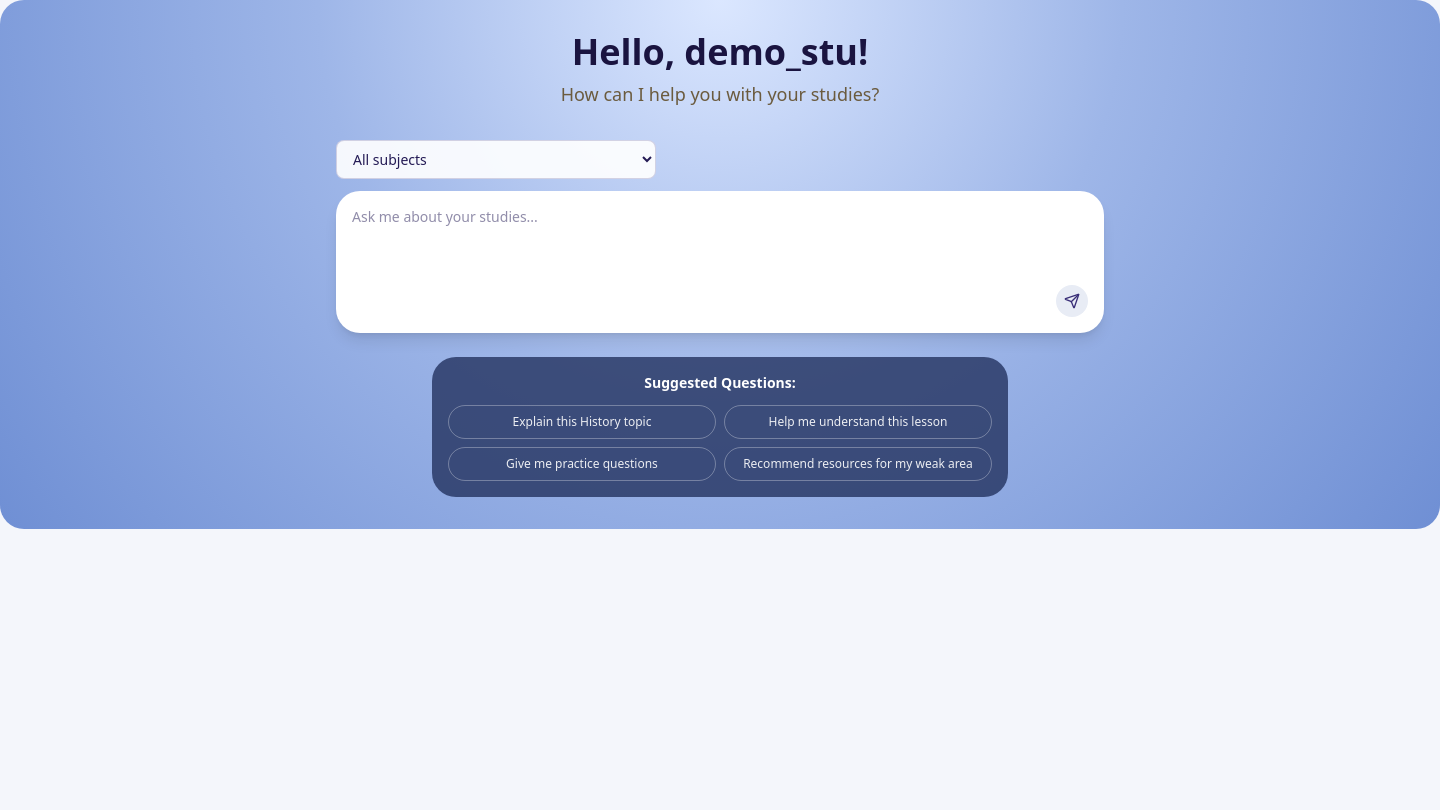
Test: ChatPage failure and retry › does not keep a failed turn and does not duplicate a successful retry
This screenshot has width=1440, height=810.
Type "Where was the early capital?" into the text box named "Your question" at point(720, 243), box [352,207,1088,279]
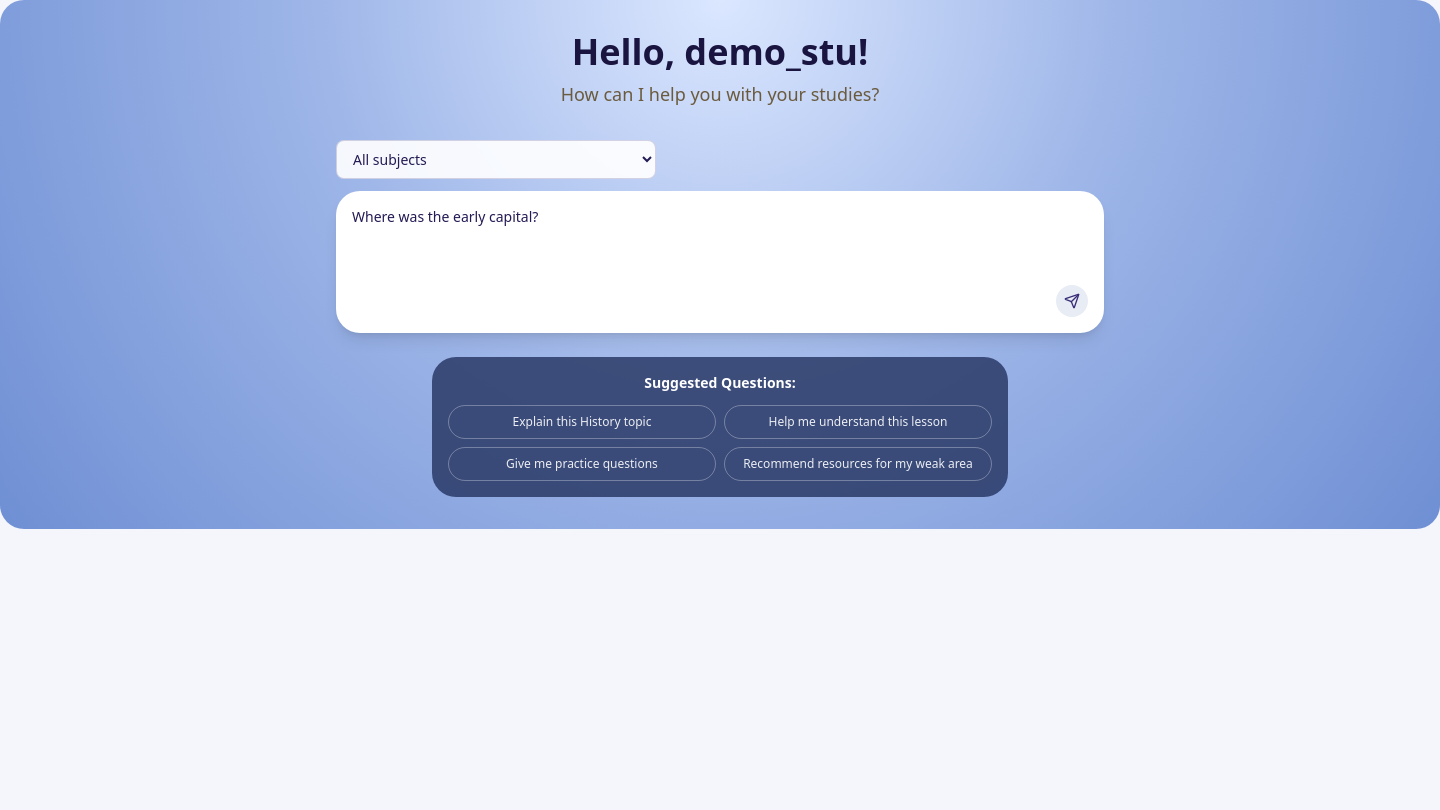
Click the button named "Ask" at point(1072, 301), box [1056,285,1088,317]
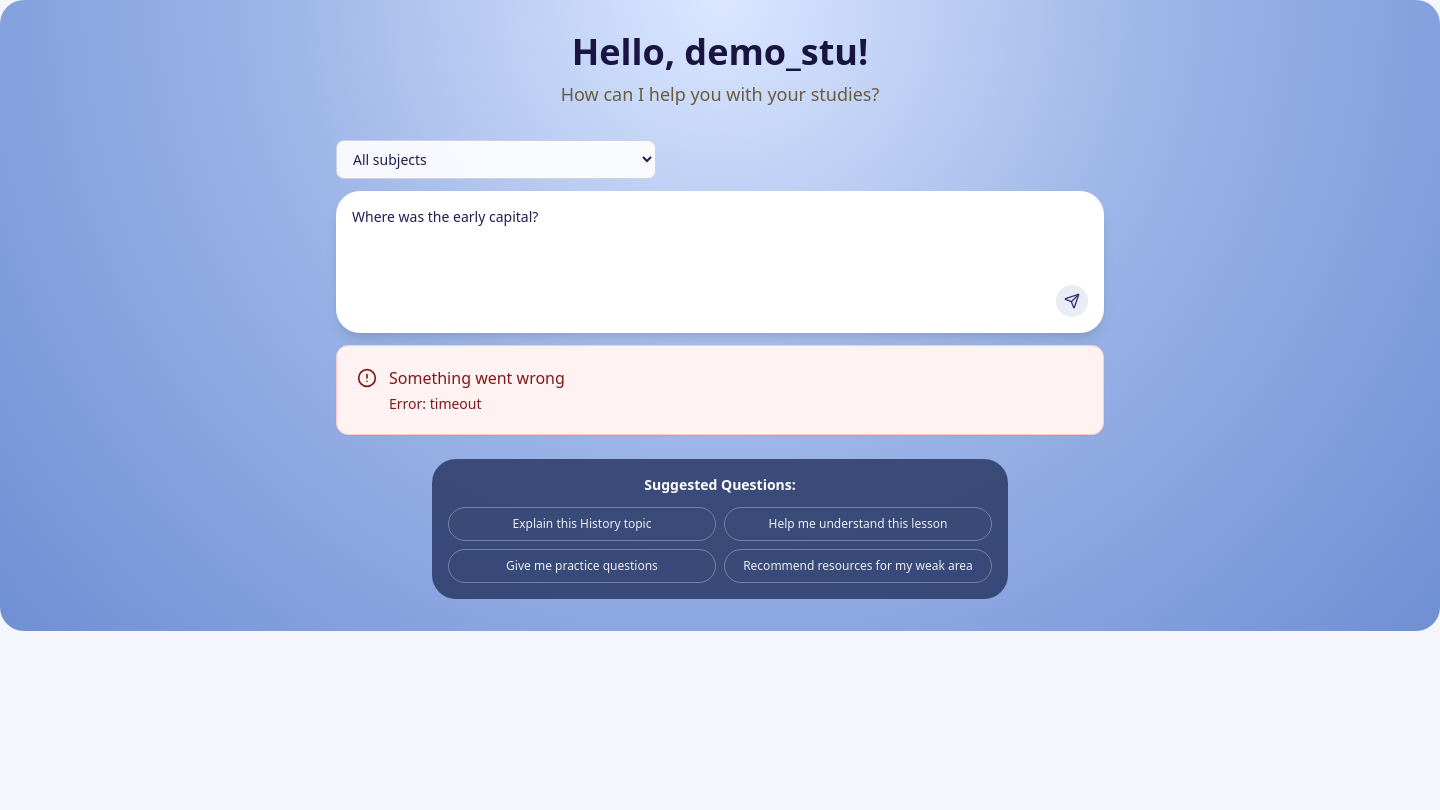
Expected: the text "assistant" is not shown
Expected: the text "Error: timeout" is shown, [389,394,482,413]
Click the button named "Ask" at point(1072, 301), box [1056,285,1088,317]
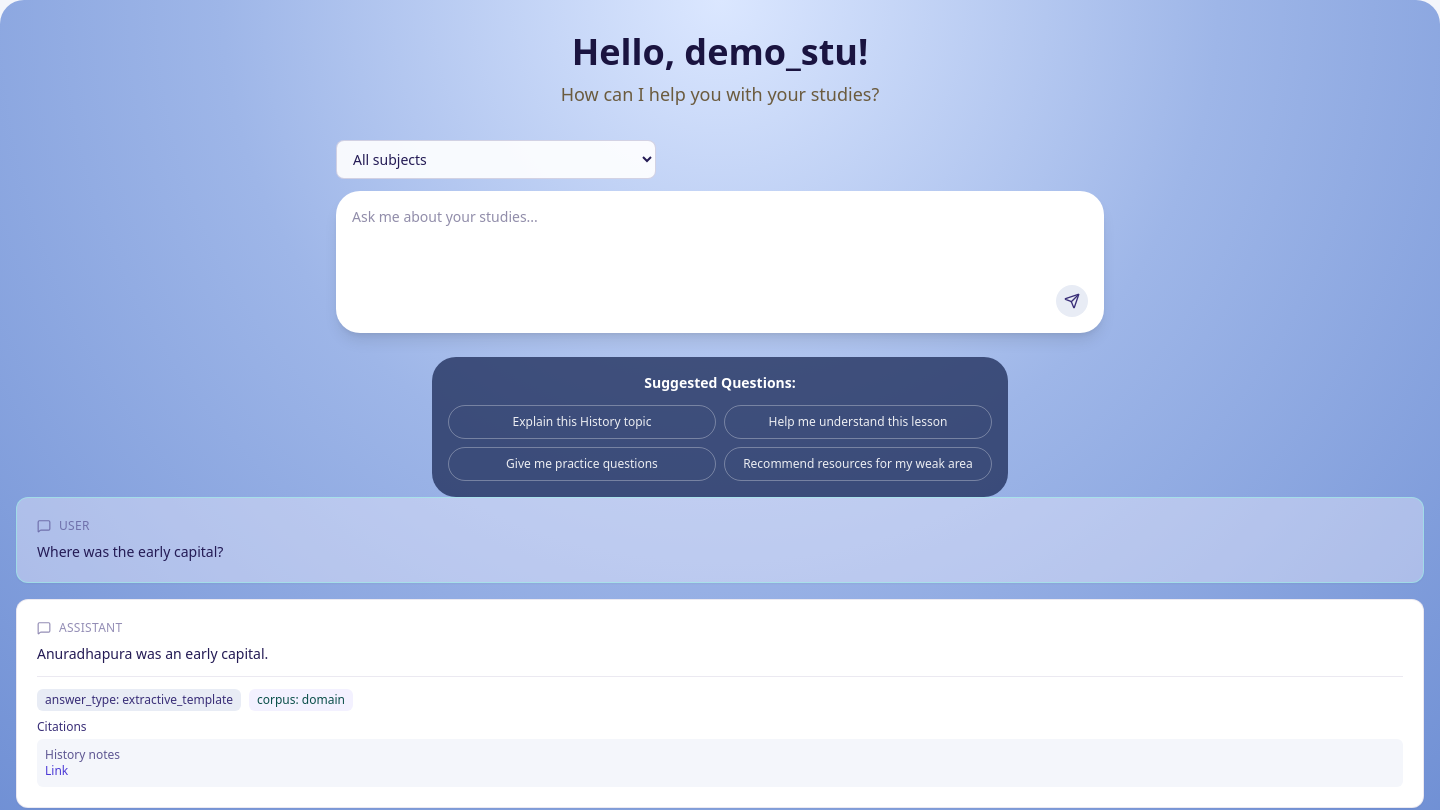
Expected: the text "Anuradhapura was an early capital." is shown, [37,644,268,663]
Expected: the text "Where was the early capital?" is shown once, [37,542,223,561]
Expected: the text "assistant" is shown once, [37,619,122,636]
